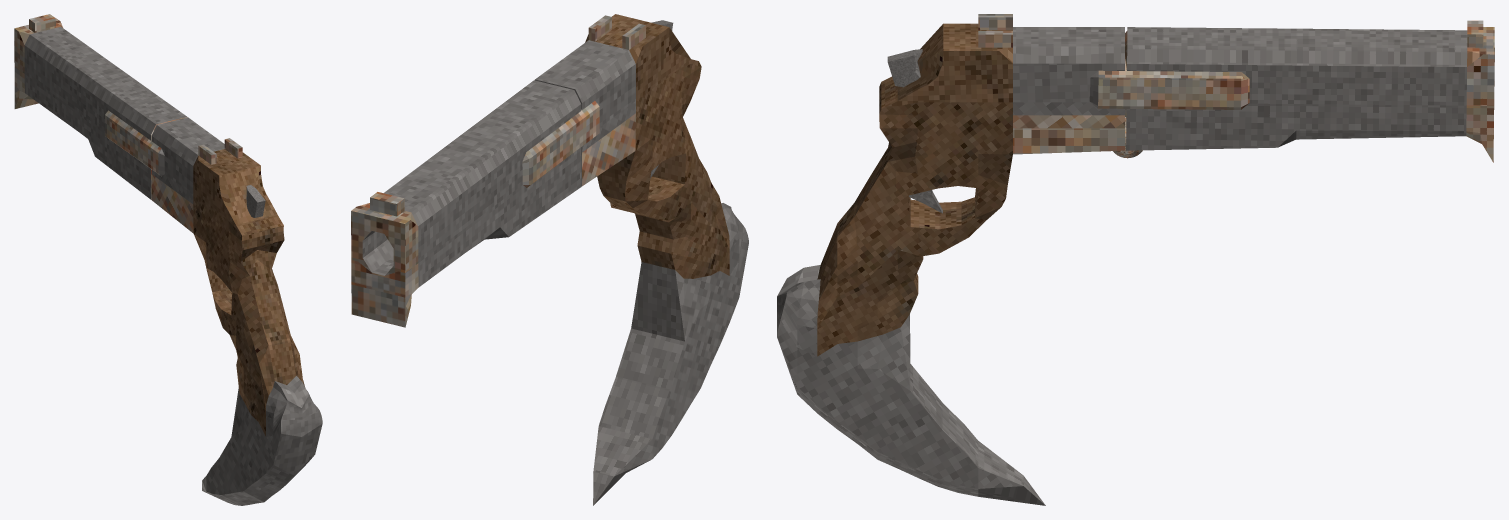
File: GunRedo.fbx
3 renders of one model, left to right at view 1: azimuth 30°, elevation 25°; view 2: azimuth 150°, elevation 25°; view 3: azimuth 270°, elevation 25°, orthographic. The views are drawn at different scales.
Parts seen in each view (by area): view 1: Cube, Cube.001, Cube.003; view 2: Cube, Cube.001; view 3: Cube, Cube.001, Cube.003.
Boxes of the visible parts, bbox=[...] form: Cube: bbox=[151, 117, 322, 505]; Cube.001: bbox=[14, 14, 187, 199]; Cube.003: bbox=[246, 185, 265, 217]; Cube: bbox=[535, 14, 748, 505]; Cube.001: bbox=[351, 80, 599, 327]; Cube: bbox=[777, 14, 1124, 505]; Cube.001: bbox=[1089, 20, 1494, 162]; Cube.003: bbox=[887, 49, 922, 87].
Size of the model in its own units: 16.67 by 117 by 158.
Materials: 5 (5 with a texture image).
